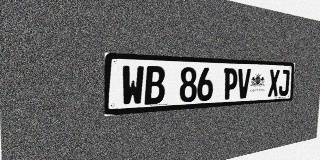6: (197, 67, 214, 101)
8: (179, 67, 197, 102)
B: (144, 66, 165, 105)
J: (278, 70, 290, 96)
P: (223, 68, 238, 100)
V: (237, 68, 251, 99)
W: (121, 65, 144, 106)
X: (268, 69, 280, 97)
